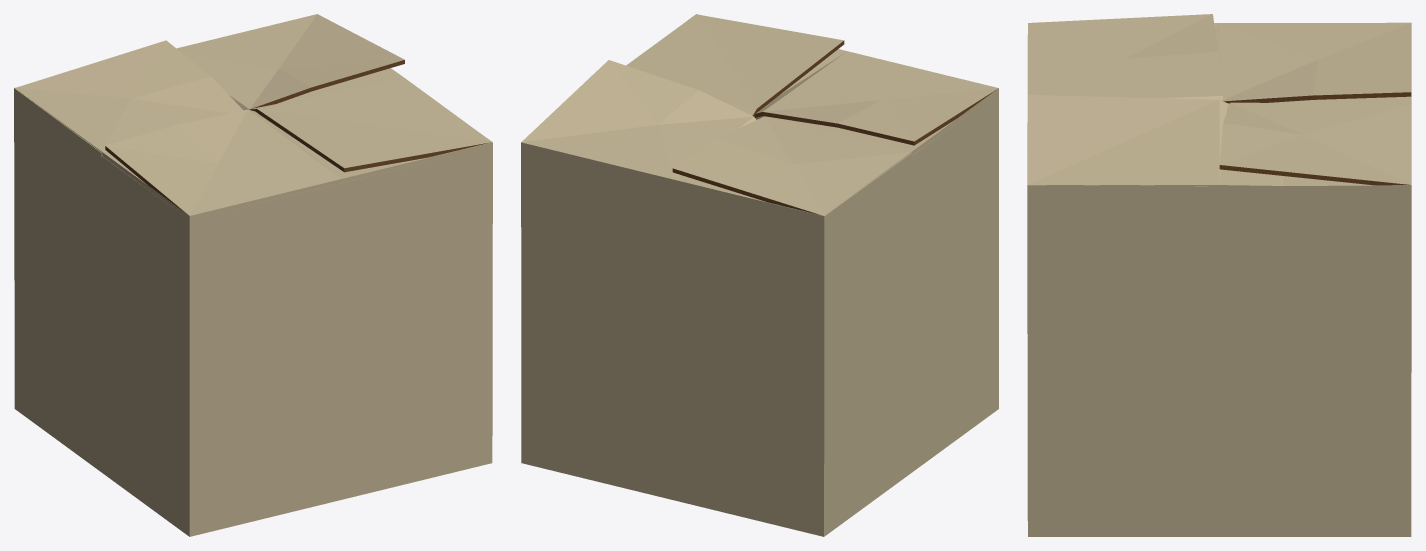
Rendered from cardboardBox.fbx.
3 views of the same model, side by side, from view 1: azimuth 30°, elevation 25°; view 2: azimuth 150°, elevation 25°; view 3: azimuth 270°, elevation 25° (orthographic). The views are drawn at different scales.
Parts seen in each view (by area): view 1: pCube17, pCube15, pCube16; view 2: pCube17, pCube16, pCube15; view 3: pCube17, pCube16, pCube15.
Boxes of the visible parts, left/top/right/bottom form: pCube17: left=14, top=92, right=492, bottom=536; pCube15: left=15, top=40, right=492, bottom=219; pCube16: left=14, top=14, right=491, bottom=172; pCube17: left=521, top=92, right=998, bottom=536; pCube16: left=521, top=14, right=912, bottom=220; pCube15: left=672, top=14, right=998, bottom=215; pCube17: left=1027, top=35, right=1411, bottom=536; pCube16: left=1028, top=22, right=1411, bottom=189; pCube15: left=1027, top=14, right=1411, bottom=190.
Size of the model in its own units: 14.97 by 15.98 by 14.97.
